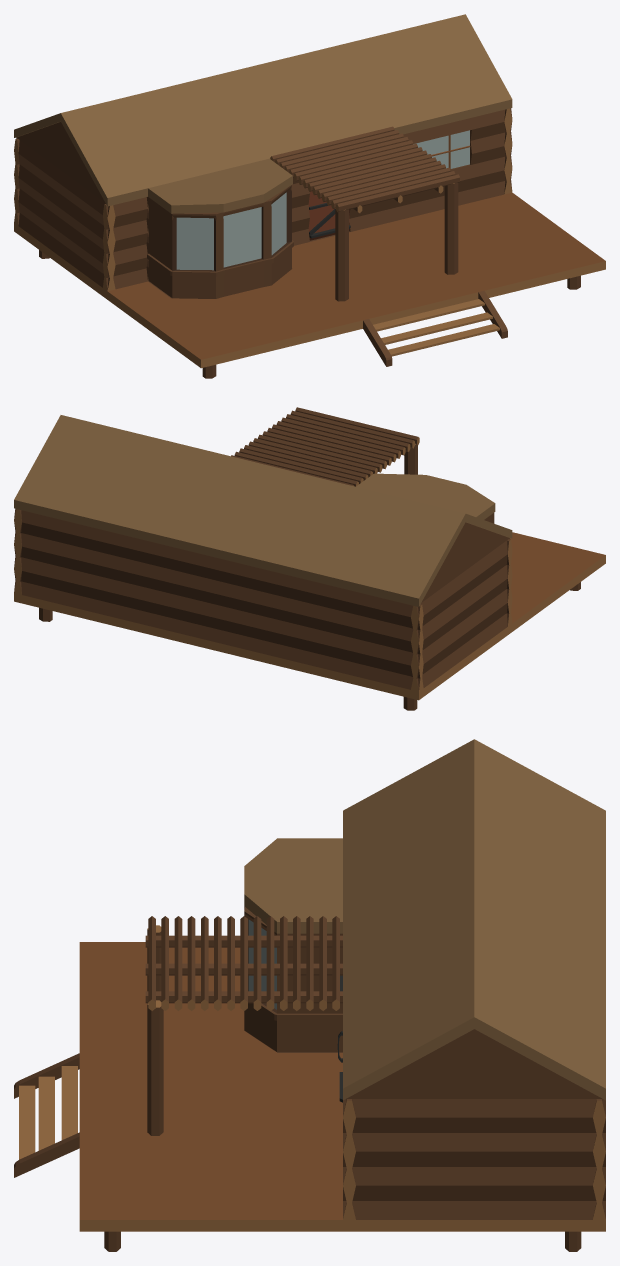
The model's file is casa 4.fbx.
3 views of the same model, one above another, from view 1: azimuth 30°, elevation 25°; view 2: azimuth 150°, elevation 25°; view 3: azimuth 270°, elevation 25° (orthographic). The views are drawn at different scales.
Parts seen in each view (by area): view 1: Cube.165; view 2: Cube.165; view 3: Cube.165.
Part boxes in pixels (x1,y1,x2,y2): Cube.165: (14,14,605,378); Cube.165: (14,407,605,710); Cube.165: (14,739,605,1251).
Size of the model in its own units: 2000 by 822 by 1800.
